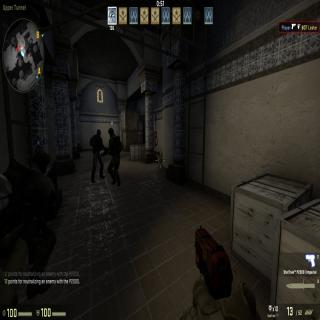CT-Body: (9, 144, 55, 301), (104, 121, 124, 185)
CT-Head: (27, 146, 52, 182), (108, 124, 116, 142)
T-Body: (88, 127, 107, 183)
T-Head: (95, 128, 102, 140)
